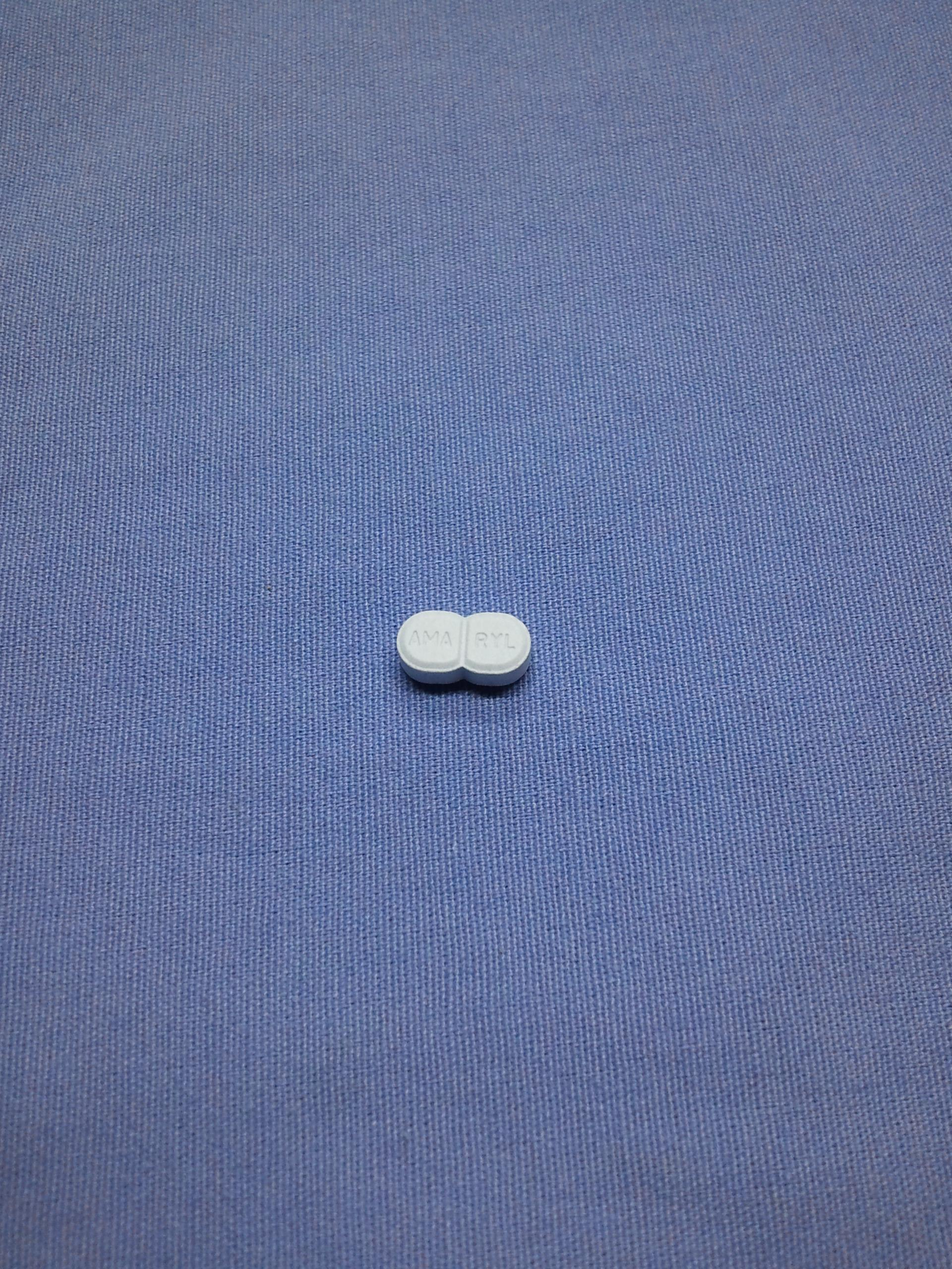Pill: (367, 582, 559, 700)
